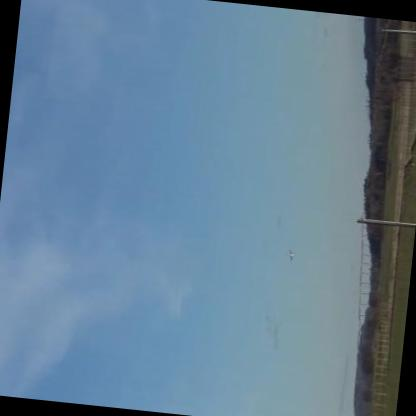plane: (282, 241, 302, 266)
